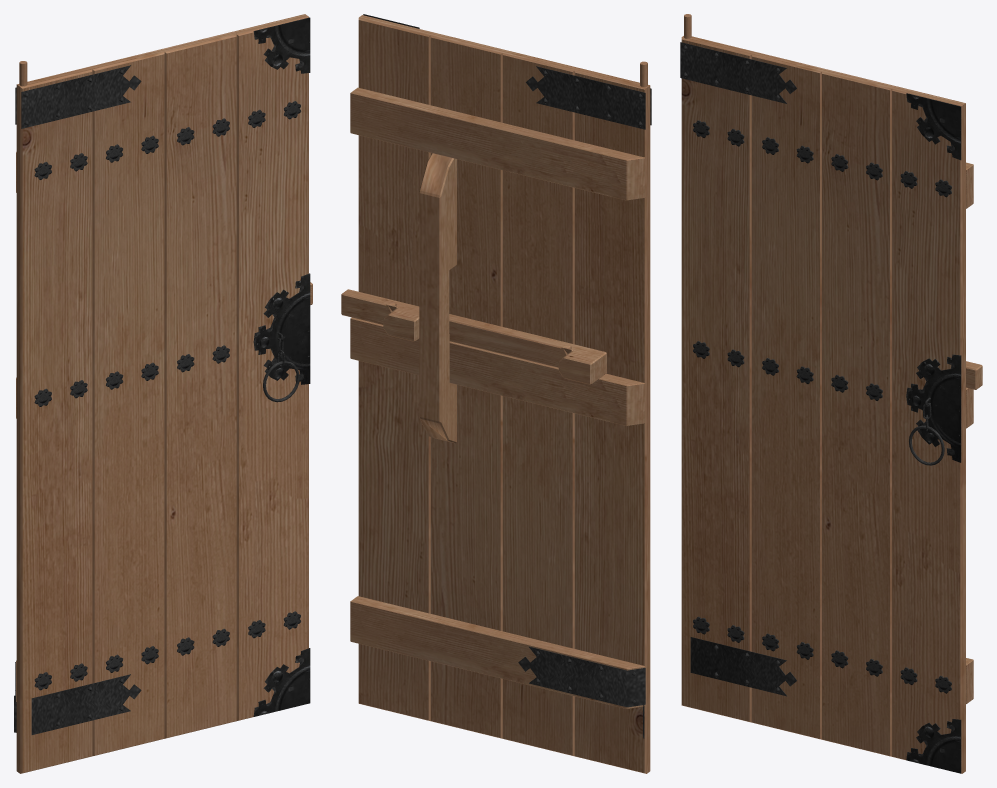
The model's file is SM_Baeryeom_Door_B2.fbx.
The picture shows the model from 3 angles, left to right: view 1: azimuth 30°, elevation 25°; view 2: azimuth 150°, elevation 25°; view 3: azimuth 330°, elevation 25°; orthographic projection. The views are drawn at different scales.
Parts seen in each view (by area): view 1: SM_Baeryeom_Door_B2; view 2: SM_Baeryeom_Door_B2; view 3: SM_Baeryeom_Door_B2.
Part boxes in pixels (x1,y1,x2,y2): SM_Baeryeom_Door_B2: (14,14,312,773); SM_Baeryeom_Door_B2: (341,14,651,773); SM_Baeryeom_Door_B2: (680,14,982,773).
Size of the model in its own units: 89.34 by 203 by 14.31.
